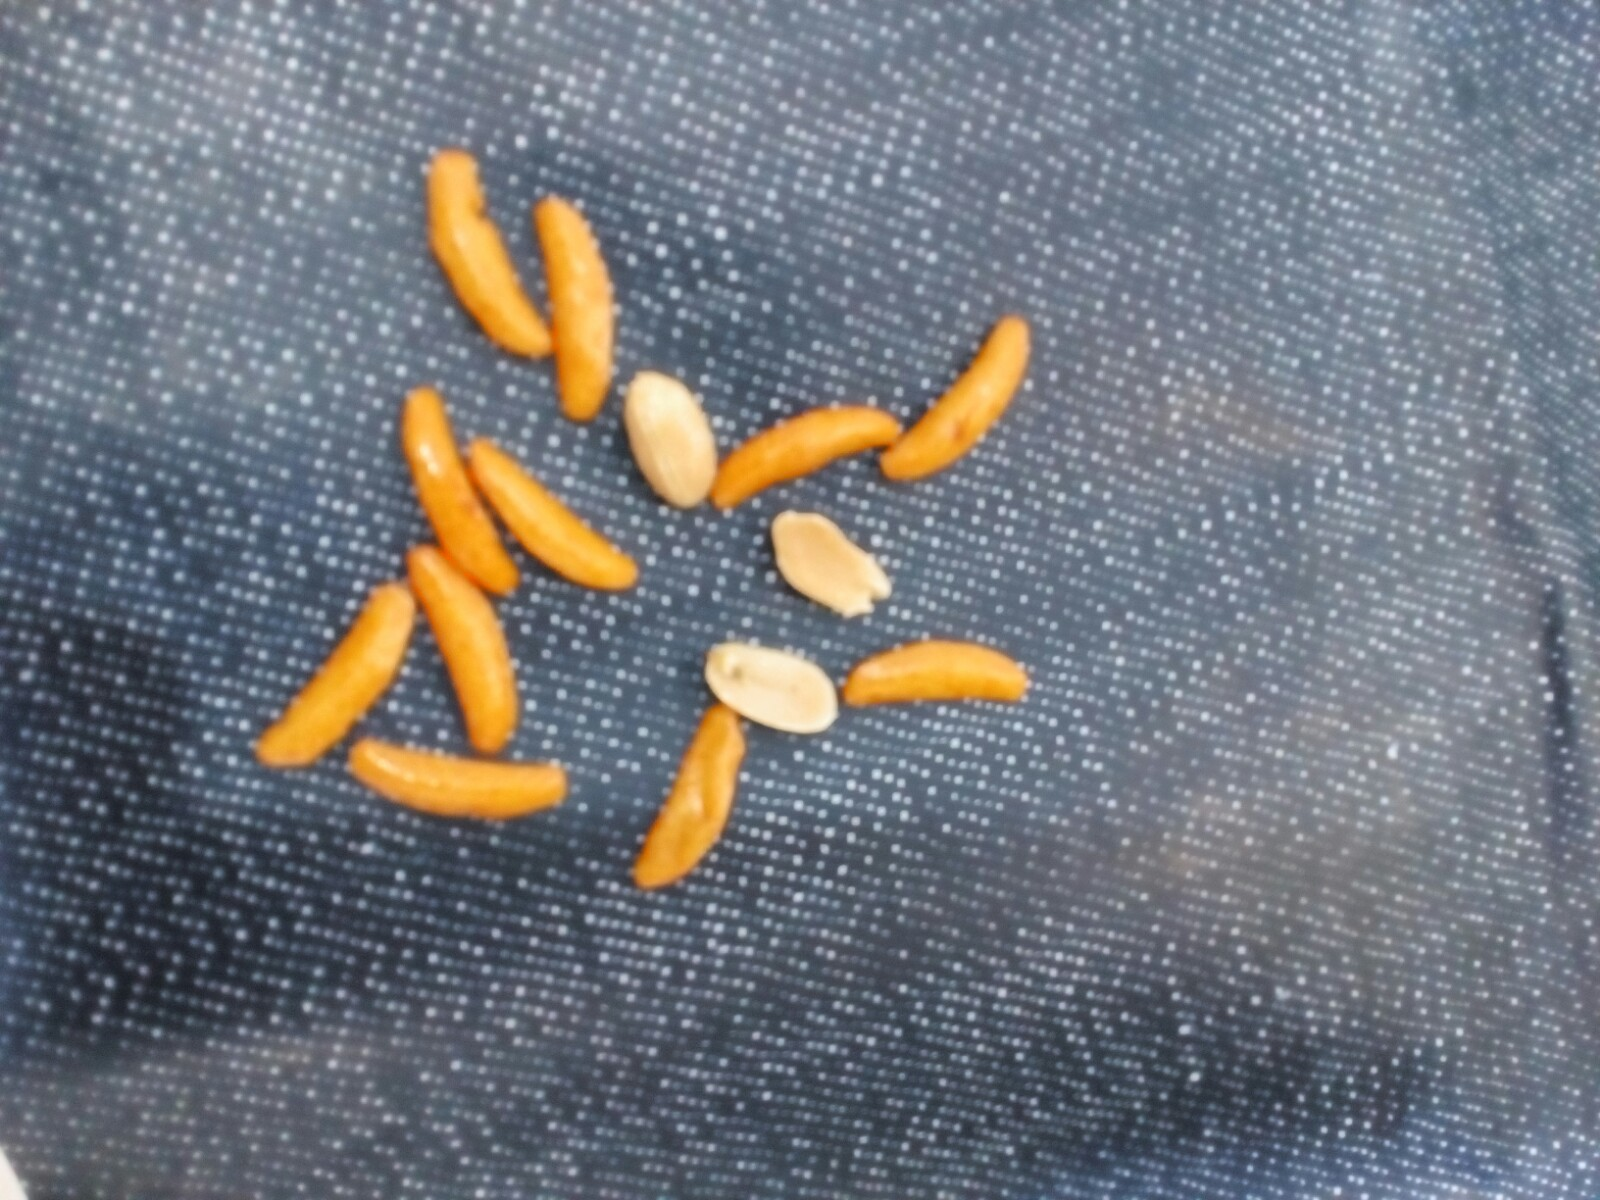peanut: (760, 500, 902, 628), (614, 361, 724, 516), (698, 626, 842, 735)
